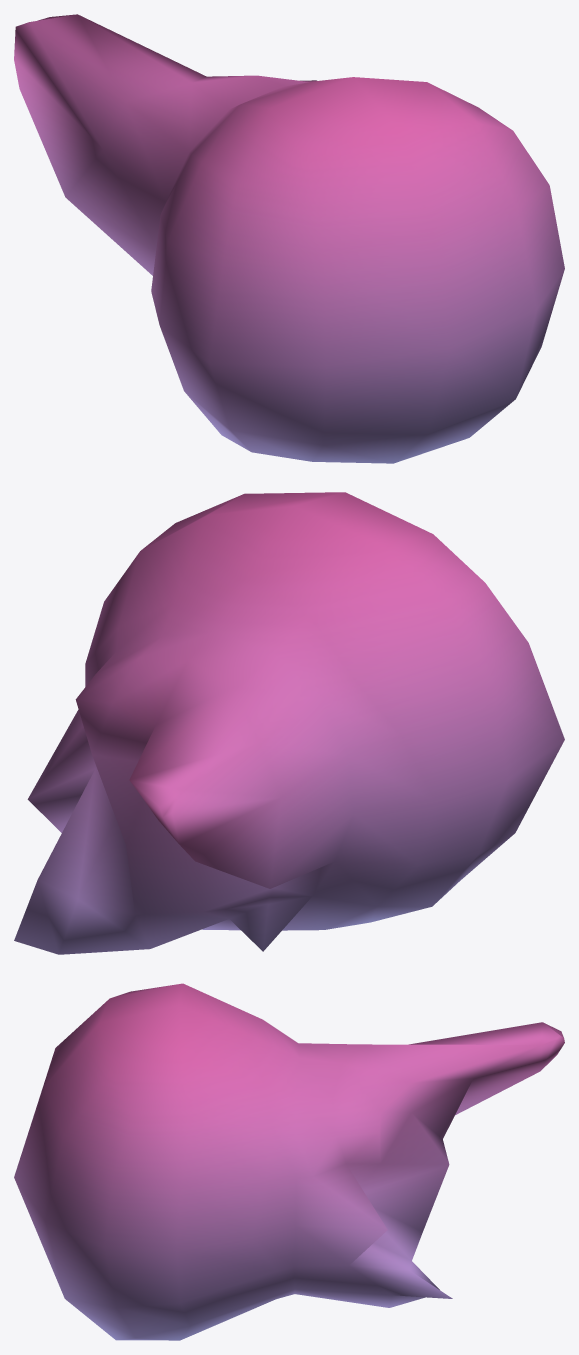
File: BossProjectile_SleepPowder.fbx
The picture shows the model from 3 angles, top to bottom: view 1: azimuth 30°, elevation 25°; view 2: azimuth 150°, elevation 25°; view 3: azimuth 270°, elevation 25°; orthographic projection. The views are drawn at different scales.
Visible parts, largest first — view 1: Cube.003; view 2: Cube.003; view 3: Cube.003.
Part boxes in pixels (x1,y1,x2,y2): Cube.003: (14, 14, 564, 463); Cube.003: (14, 492, 564, 954); Cube.003: (14, 983, 564, 1340).
Bounding box in the file's own units: 81.01 × 77.18 × 121.
